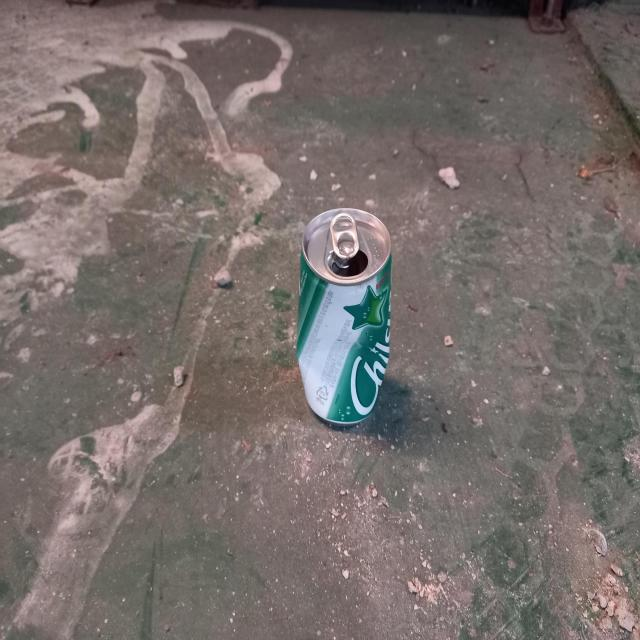can: (297, 207, 392, 425)
